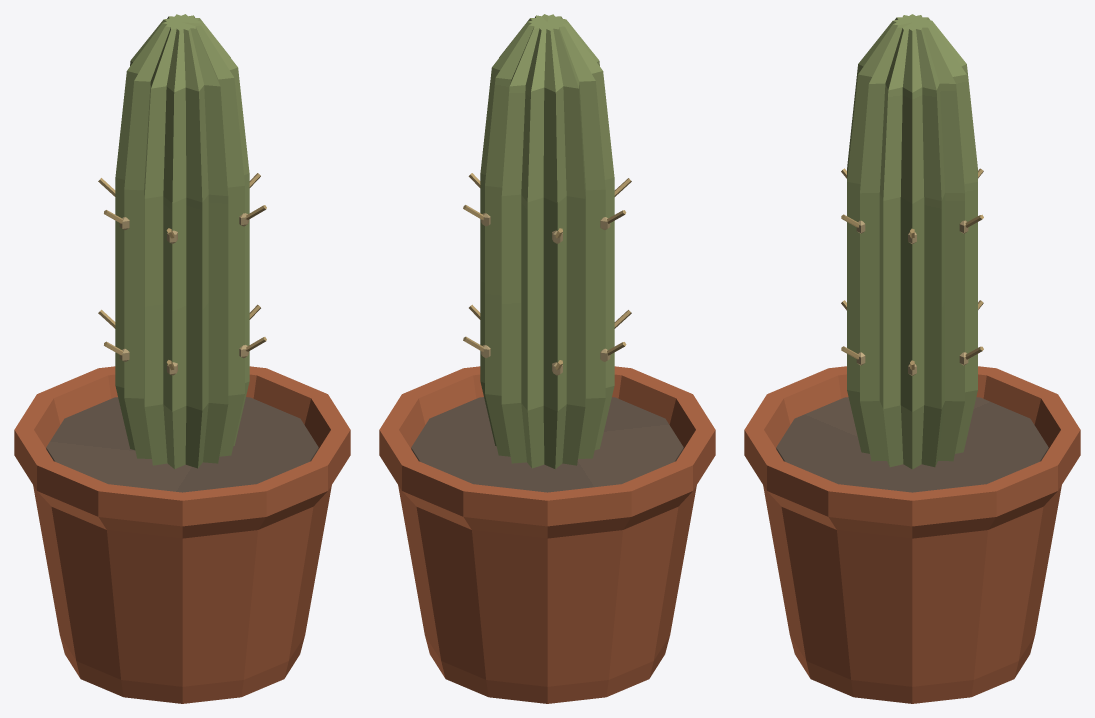
File: new-lenninghausii.glb
3 views of the same model, side by side, from view 1: azimuth 30°, elevation 25°; view 2: azimuth 150°, elevation 25°; view 3: azimuth 270°, elevation 25° (orthographic).
Parts seen in each view (by area): view 1: new-lenninghausii/review-terra-vessel, new-lenninghausii/ribbed-stem-001, new-lenninghausii/review-rooted-soil; view 2: new-lenninghausii/review-terra-vessel, new-lenninghausii/ribbed-stem-001, new-lenninghausii/review-rooted-soil; view 3: new-lenninghausii/review-terra-vessel, new-lenninghausii/ribbed-stem-001, new-lenninghausii/review-rooted-soil.
Boxes of the visible parts, bbox=[...] form: new-lenninghausii/review-terra-vessel: bbox=[14, 366, 350, 703]; new-lenninghausii/ribbed-stem-001: bbox=[115, 14, 249, 469]; new-lenninghausii/review-rooted-soil: bbox=[46, 397, 318, 492]; new-lenninghausii/review-terra-vessel: bbox=[379, 366, 715, 703]; new-lenninghausii/ribbed-stem-001: bbox=[480, 14, 614, 469]; new-lenninghausii/review-rooted-soil: bbox=[411, 397, 683, 492]; new-lenninghausii/review-terra-vessel: bbox=[744, 366, 1080, 703]; new-lenninghausii/ribbed-stem-001: bbox=[847, 14, 977, 469]; new-lenninghausii/review-rooted-soil: bbox=[776, 397, 1048, 492].
Size of the model in its own units: 0.19 by 0.394 by 0.19.
5 materials, 5 textured.
